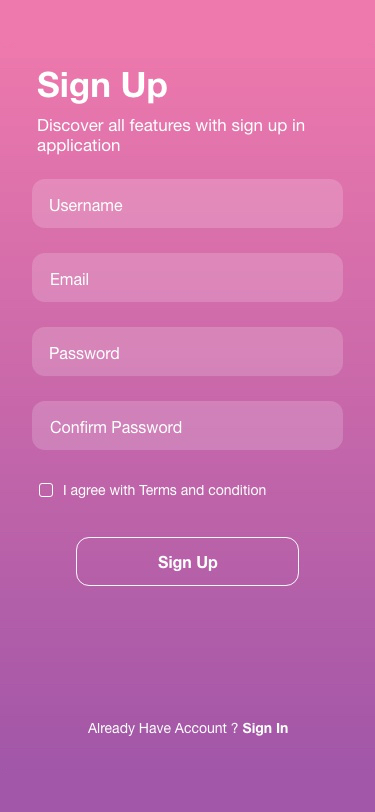CheckedTextView: (39, 482, 267, 499)
EditText: (32, 179, 344, 230), (32, 253, 344, 303), (32, 327, 344, 377), (32, 401, 344, 451)
Text: (38, 119, 305, 157), (38, 71, 169, 106), (88, 722, 289, 737), (64, 485, 267, 499), (51, 422, 182, 435), (51, 200, 123, 213), (50, 347, 120, 360), (51, 273, 89, 287)
TextButton: (76, 537, 300, 587)
